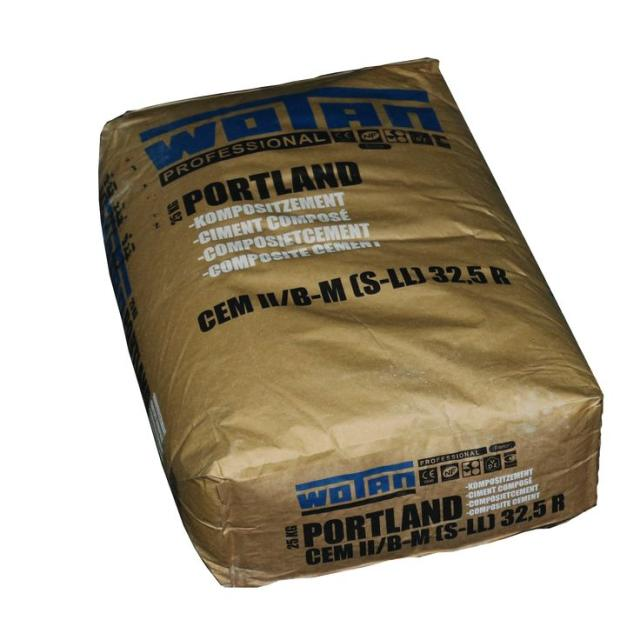KantongSemen: (96, 56, 604, 588)
